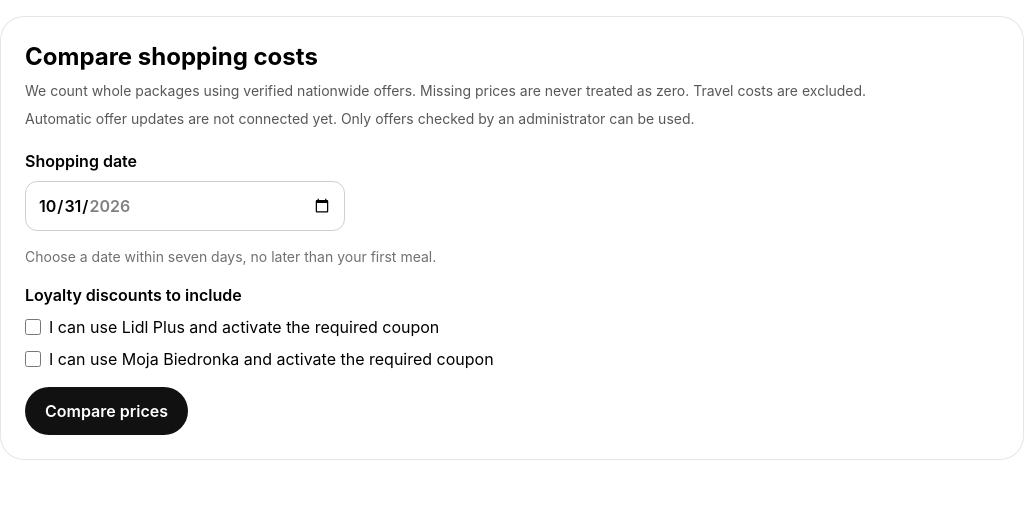
Scenario: Meal plan pricing › expired quote no longer displays a valid budget claim
The width and height of the screenshot is (1024, 517).
Click the button "Compare prices". click: (106, 411)
box: [25,387,188,435]
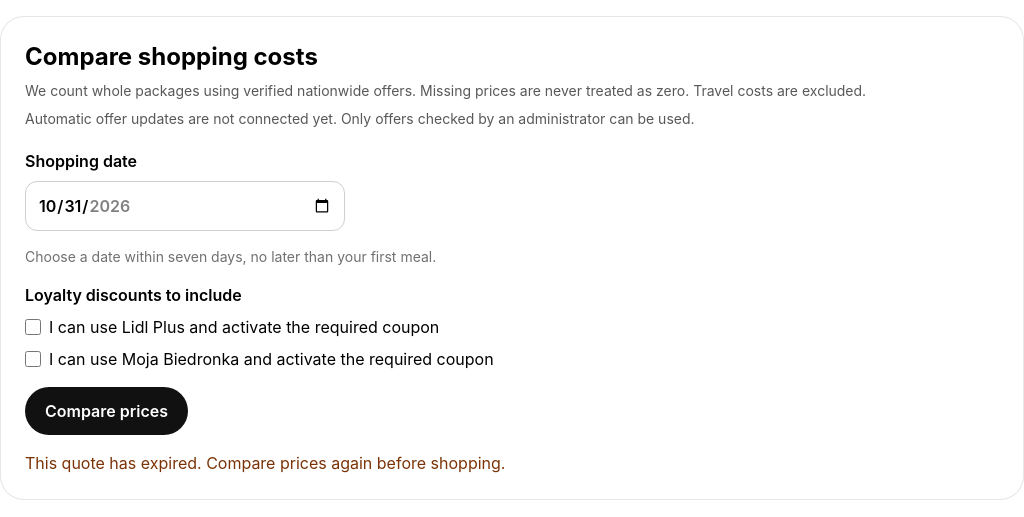
Now the text "This quote has expired. Compare prices again before shopping." is shown, box [25,453,505,473]
